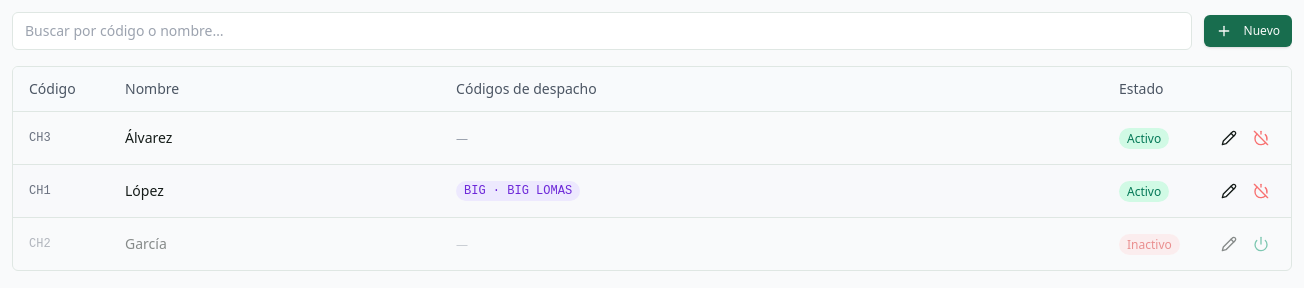
it: ChoferesTab › filtra por nombre o código
Step 1. Type "gar" into the field with placeholder "Buscar por código o nombre…" → [602, 31], box [12, 12, 1192, 50]
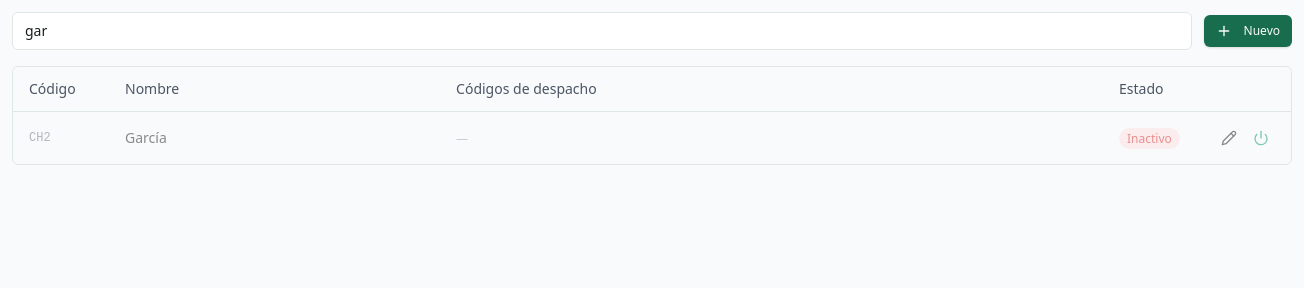
Expected: the text "García" is shown, [109, 112, 440, 164]
Now the text "López" is gone
